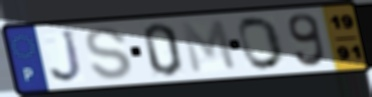0: (142, 21, 186, 79)
9: (287, 12, 328, 69)
J: (48, 27, 86, 85)
M: (178, 18, 241, 76)
O: (237, 15, 287, 72)
S: (83, 26, 135, 82)
